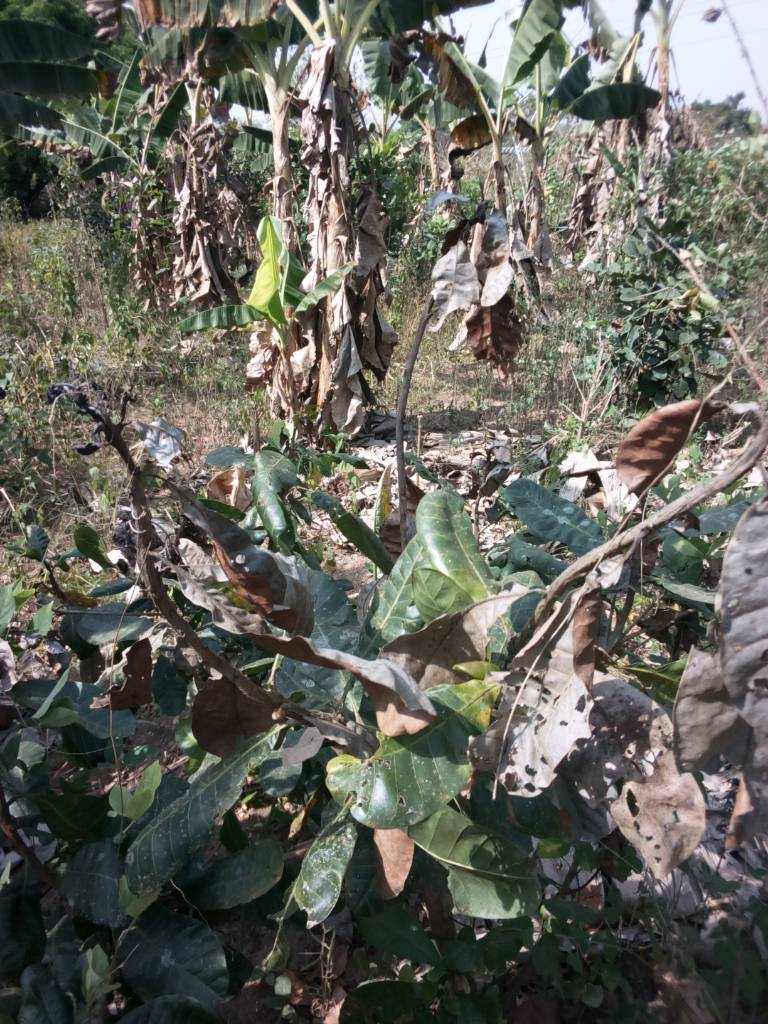Dessèchement des bourgeons: (65, 381, 150, 471)
